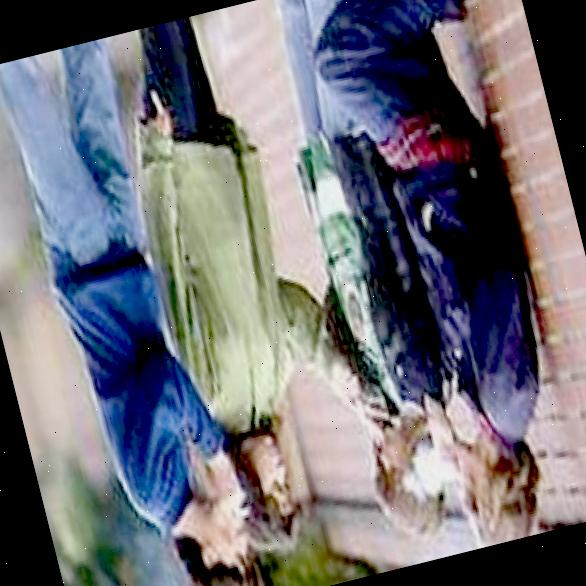smoke: (399, 433, 469, 512)
